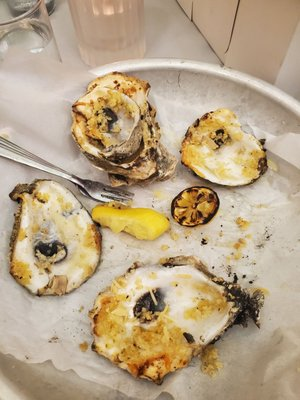burger: (1, 134, 134, 205)
pizza: (67, 0, 147, 69)
